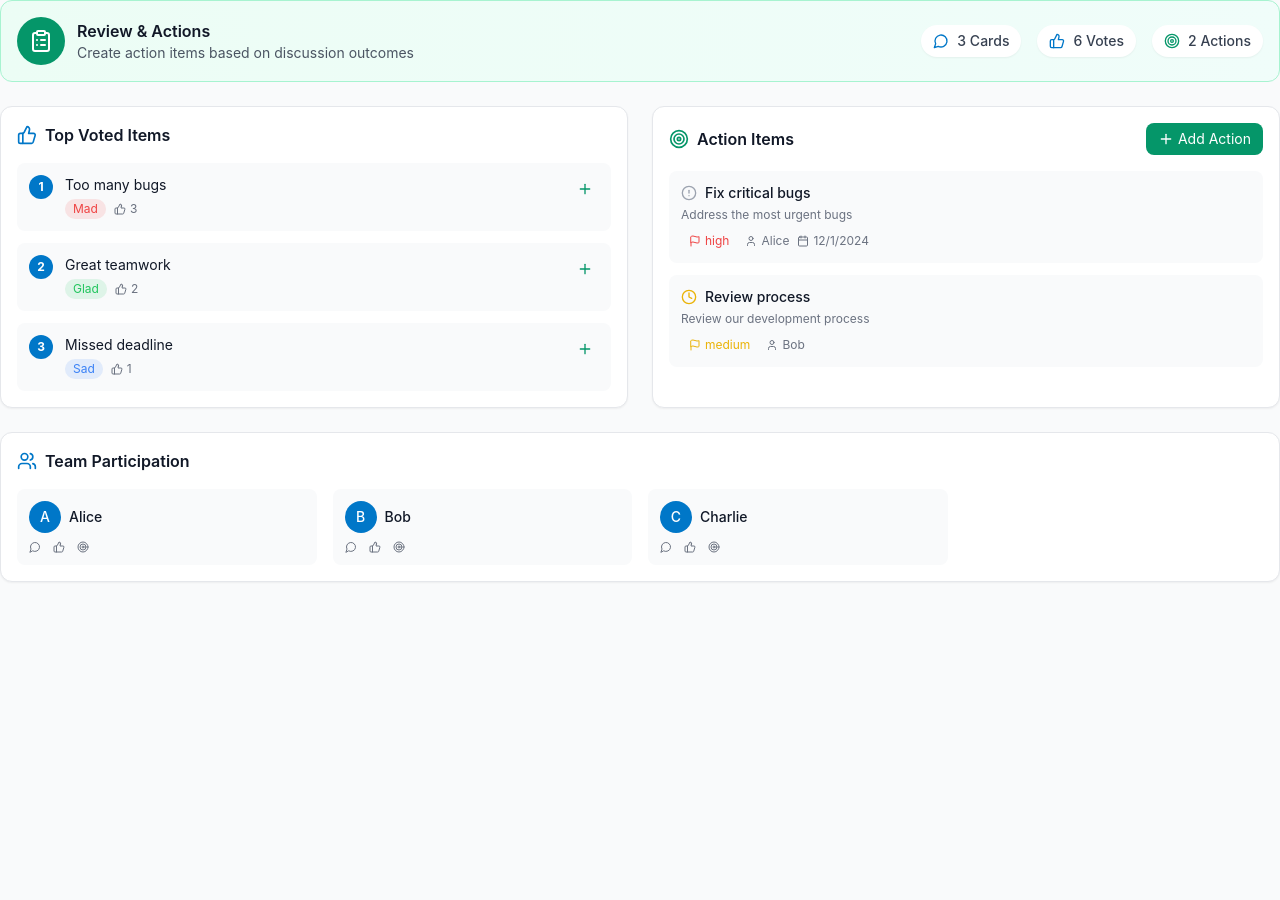
Test case: ReviewStage › Adding Action Items › opens add action form when clicking Add Action button
The width and height of the screenshot is (1280, 900).
Click the button "Add Action". click: (1204, 139)
box: [1146, 123, 1263, 155]
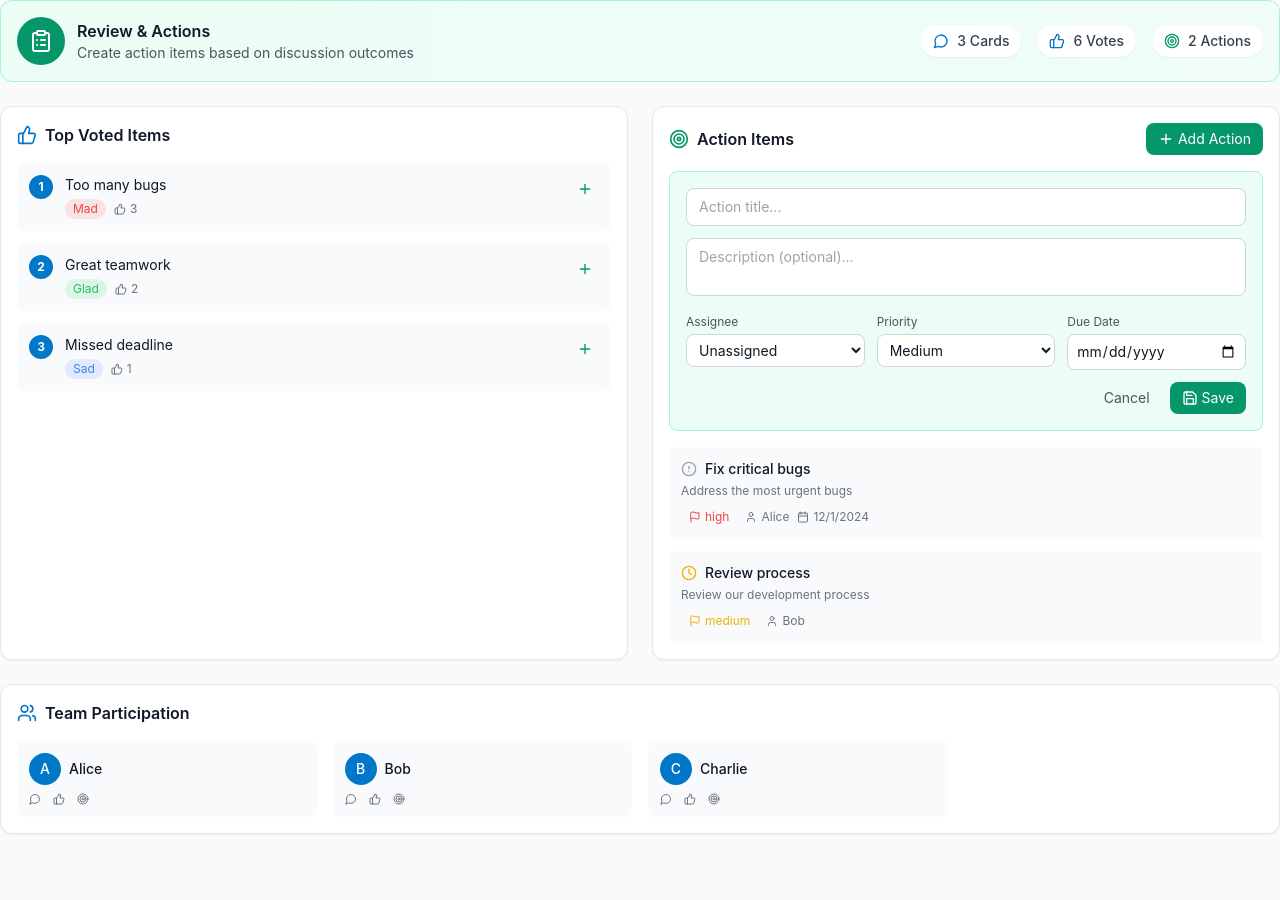
Expected: the field with placeholder "Action title..." is shown, [686, 188, 1246, 226]
Expected: the text box with placeholder "Description (optional)..." is shown, [686, 238, 1246, 296]
